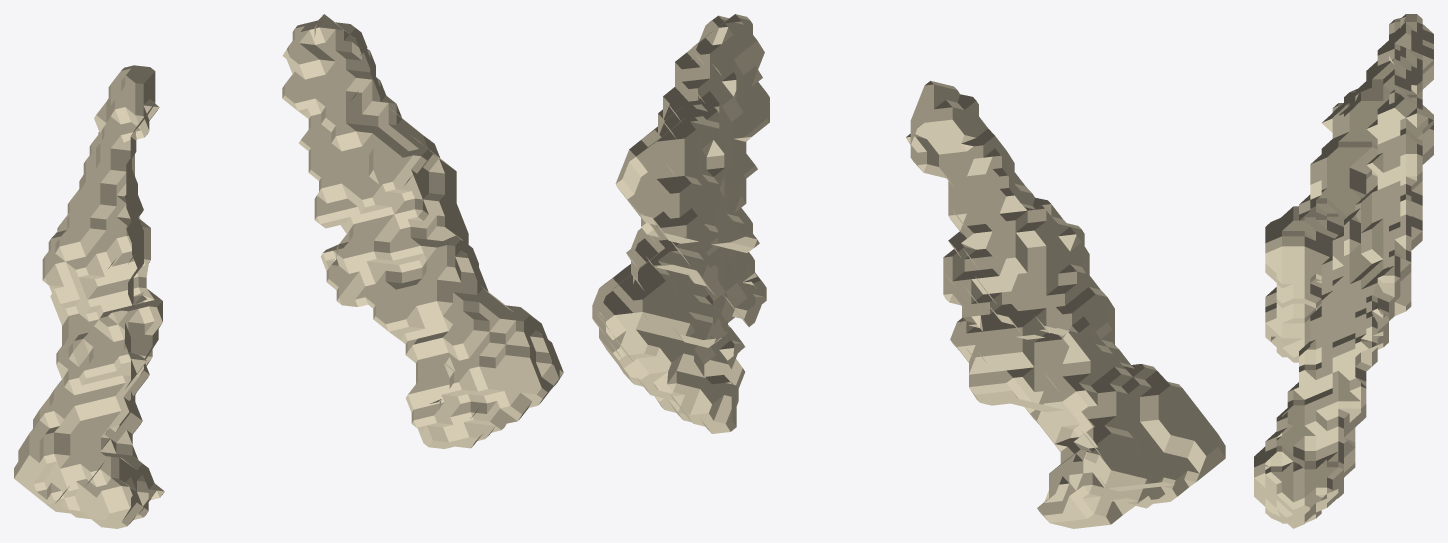
Rendered from region_0119_PPd__periventricular_pretectal_nucleus__dorsal_part_.glb.
3 views of the same model, side by side, from view 1: azimuth 30°, elevation 25°; view 2: azimuth 150°, elevation 25°; view 3: azimuth 270°, elevation 25° (orthographic). The views are drawn at different scales.
Visible parts, largest first — view 1: world; view 2: world; view 3: world.
Part boxes in pixels (x1,y1,x2,y2): world: [14, 14, 563, 528]; world: [592, 14, 1225, 528]; world: [1254, 14, 1433, 528].
Size of the model in its own units: 0.416 by 0.304 by 0.128.
